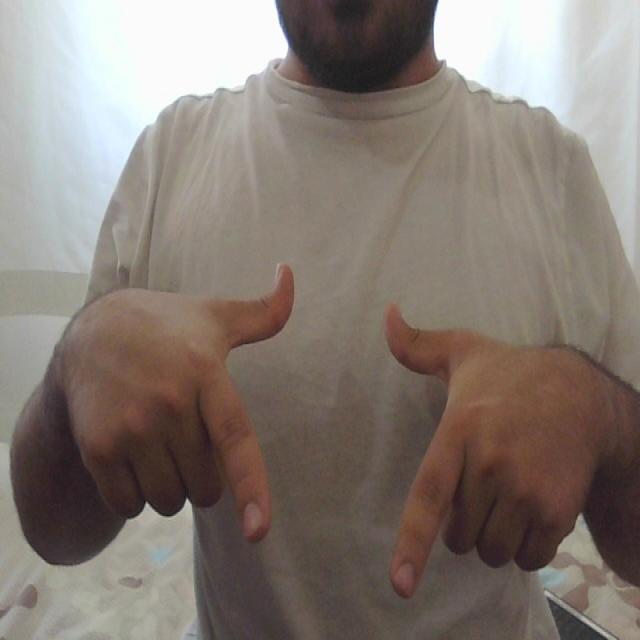Nerede: (176, 252, 491, 601)
